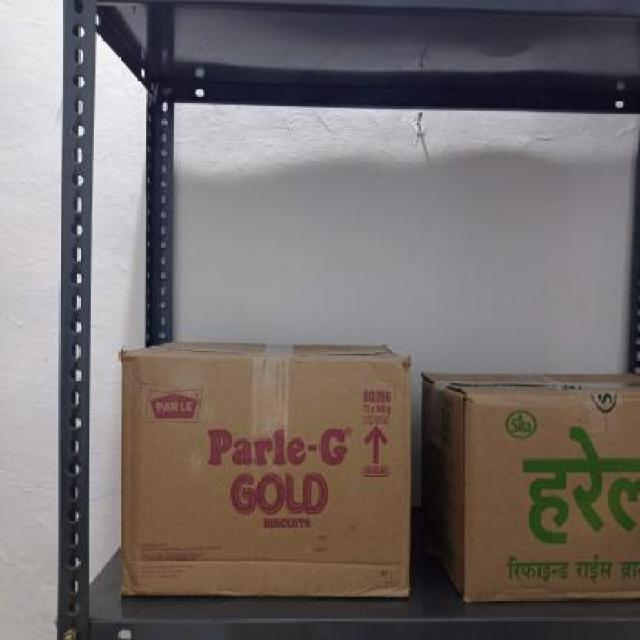box: (118, 350, 412, 602), (463, 392, 640, 600)
